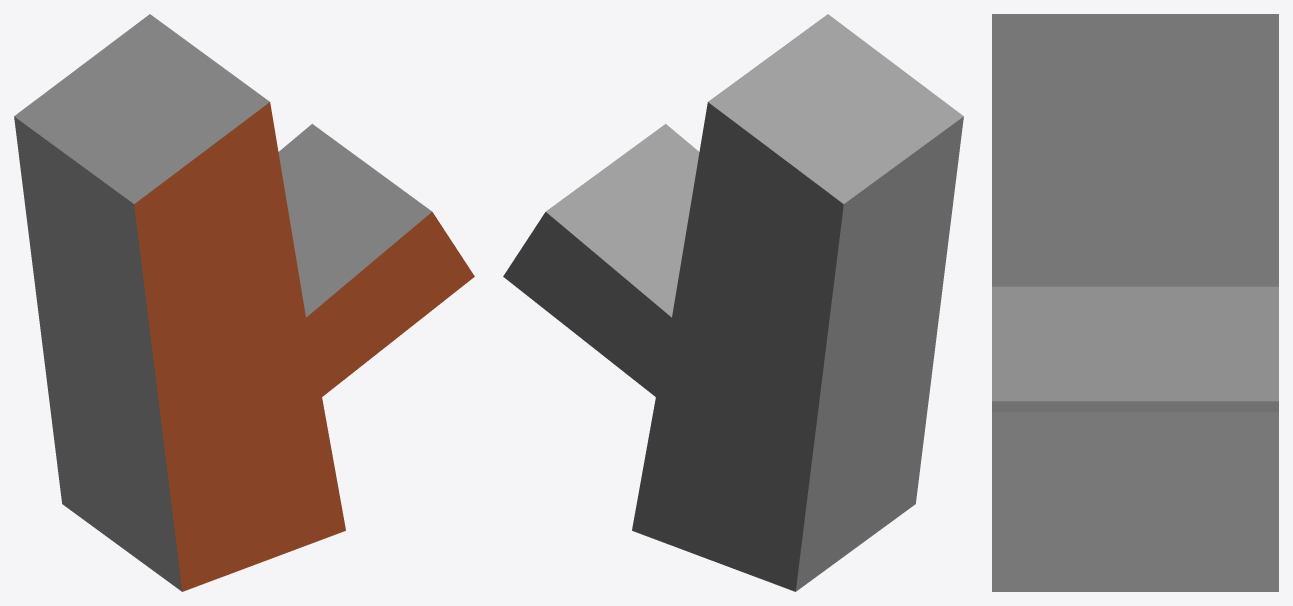
The model's file is construction_4343_assumed_A_Casa_h6m.obj.
The picture shows the model from 3 angles, left to right: view 1: azimuth 30°, elevation 25°; view 2: azimuth 150°, elevation 25°; view 3: azimuth 270°, elevation 25°; orthographic projection. The views are drawn at different scales.
Parts seen in each view (by area): view 1: construction_4343_assumed_A_Casa; view 2: construction_4343_assumed_A_Casa; view 3: construction_4343_assumed_A_Casa.
Boxes of the visible parts, x1=… form: construction_4343_assumed_A_Casa: x1=14, y1=14, x2=474, y2=591; construction_4343_assumed_A_Casa: x1=503, y1=14, x2=963, y2=591; construction_4343_assumed_A_Casa: x1=992, y1=14, x2=1278, y2=591.
Bounding box in the file's own units: 9.83 × 12.91 × 6.
